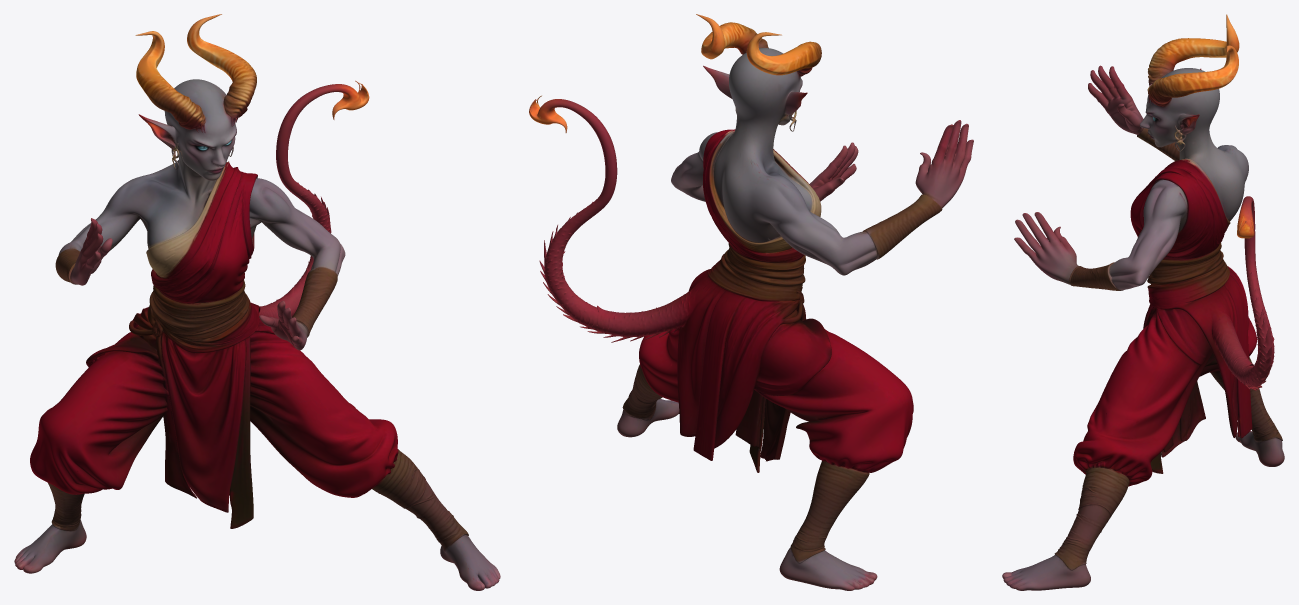
File: tiefling_monk_full_female_01.glb
The picture shows the model from 3 angles, left to right: view 1: azimuth 30°, elevation 25°; view 2: azimuth 150°, elevation 25°; view 3: azimuth 270°, elevation 25°; orthographic projection. The views are drawn at different scales.
Visible parts, largest first — view 1: material; view 2: material; view 3: material.
Part boxes in pixels (box(x1,y1,x2,y2)): material: box(14, 14, 500, 590); material: box(529, 14, 973, 590); material: box(1002, 14, 1284, 590).
Bounding box in the file's own units: 0.6752 × 0.903 × 0.4941.
Materials: 1 (1 with a texture image).
